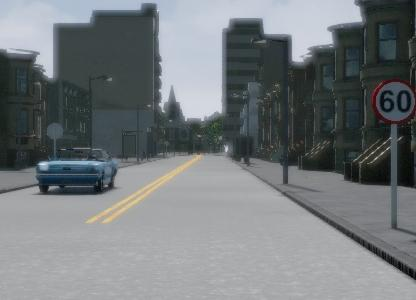Speed_60: (369, 77, 416, 127)
